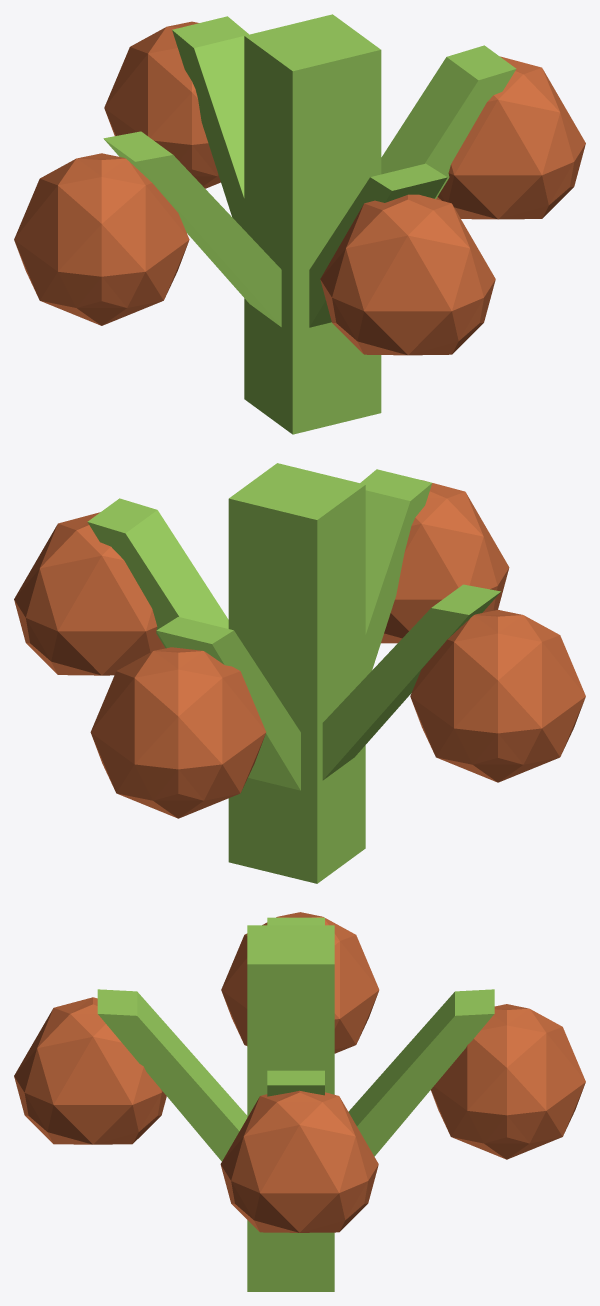
The model's file is herb7.fbx.
3 views of the same model, one above another, from view 1: azimuth 30°, elevation 25°; view 2: azimuth 150°, elevation 25°; view 3: azimuth 270°, elevation 25° (orthographic). The views are drawn at different scales.
Visible parts, largest first — view 1: Cube_14; view 2: Cube_14; view 3: Cube_14.
Part boxes in pixels (x1,y1,x2,y2): Cube_14: (14, 14, 585, 434); Cube_14: (14, 463, 585, 883); Cube_14: (14, 912, 585, 1291).
Size of the model in its own units: 36.94 by 24.3 by 38.45.
